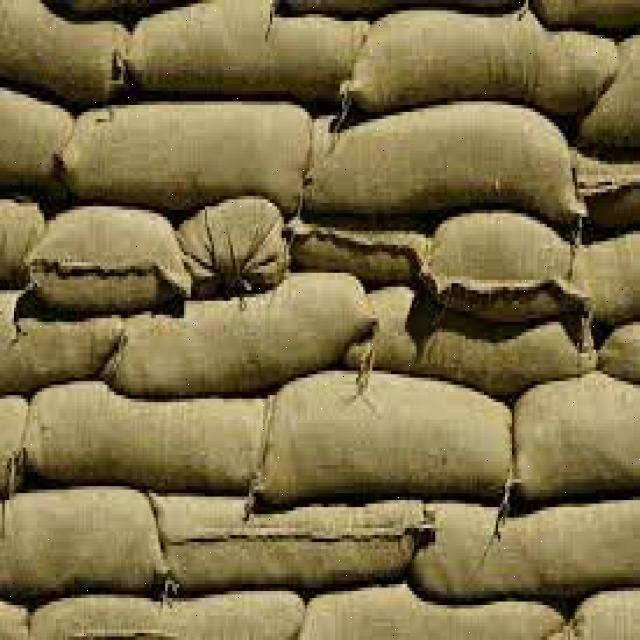sack: (118, 268, 375, 399), (306, 107, 580, 228), (257, 374, 512, 496), (353, 284, 601, 395), (60, 103, 322, 208), (345, 12, 619, 109), (23, 382, 260, 492), (159, 490, 426, 586), (128, 0, 372, 105), (414, 500, 636, 588), (22, 206, 193, 317), (0, 490, 167, 592), (422, 214, 583, 317), (516, 370, 634, 502), (302, 588, 566, 638), (27, 594, 308, 640), (0, 0, 123, 105), (0, 292, 115, 395), (287, 214, 426, 290), (178, 197, 285, 284), (0, 84, 66, 183), (576, 232, 640, 317), (570, 150, 640, 226), (571, 590, 636, 638)
